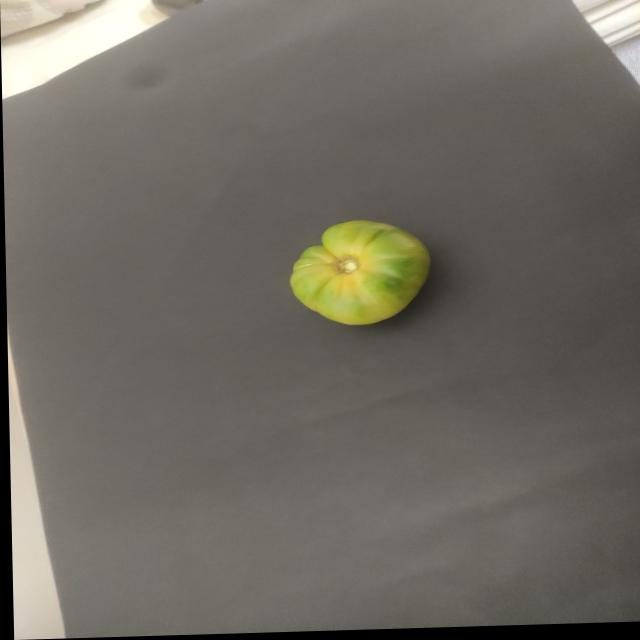yesil: (271, 204, 451, 343)
